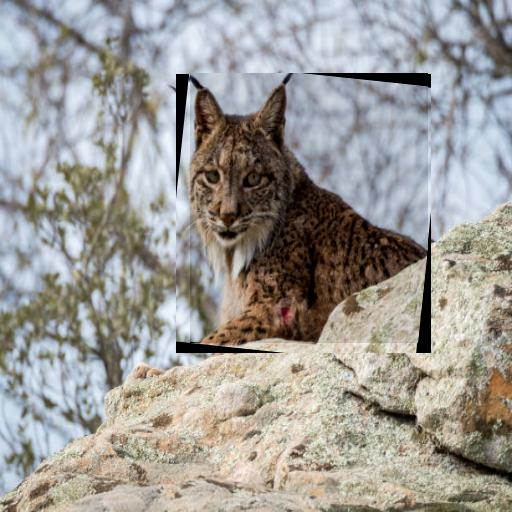lynx: (190, 74, 428, 343)
